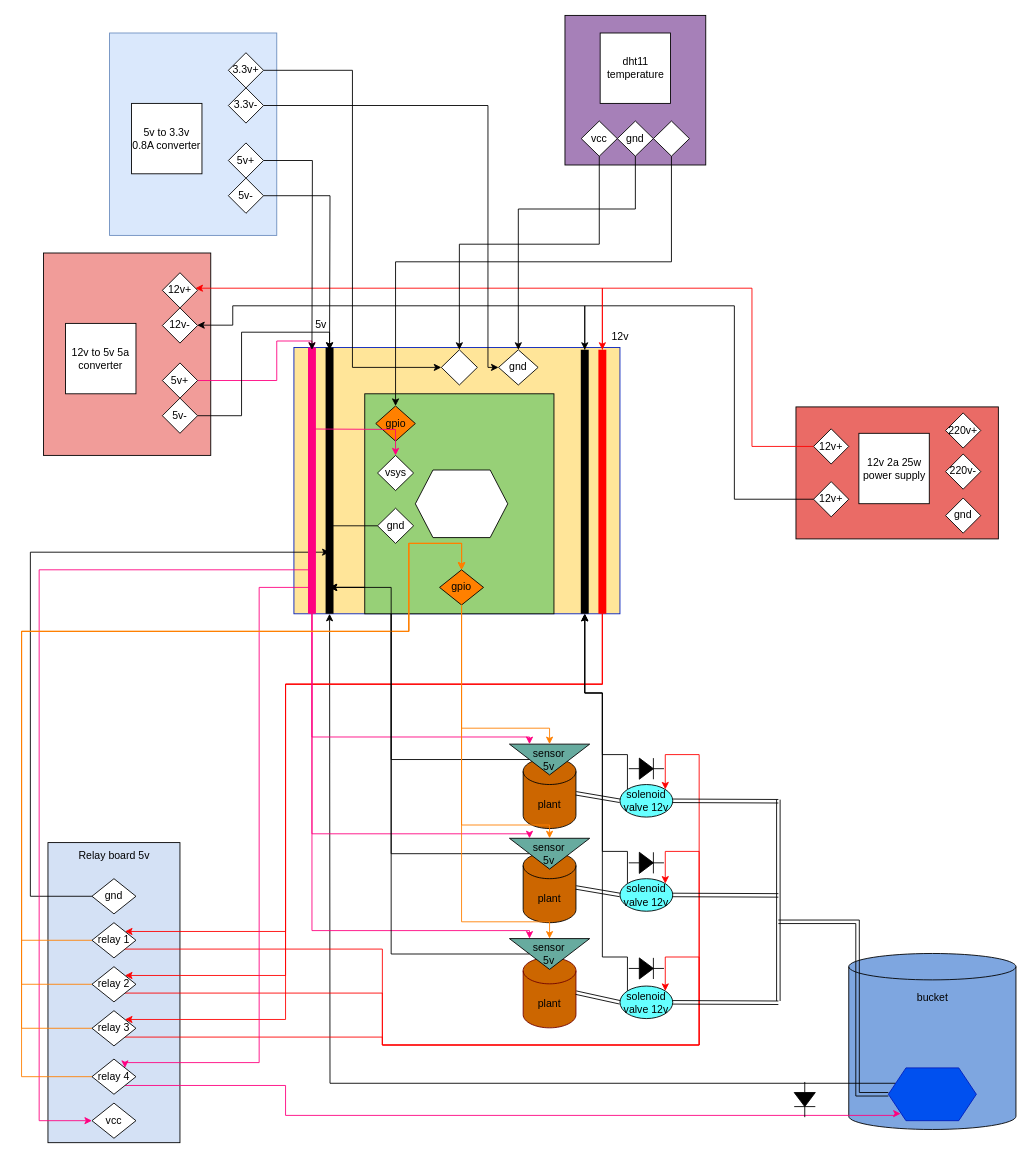
Image size: 1031x1158. Some labels were removed from this diagram. Each missing label, with the centre of its shape:
"3.3v" goes at (x=458, y=367).
"data" goes at (x=671, y=138).
"raspberry pi pico w" goes at (x=461, y=503).
"water pump 5v" goes at (x=931, y=1094).
